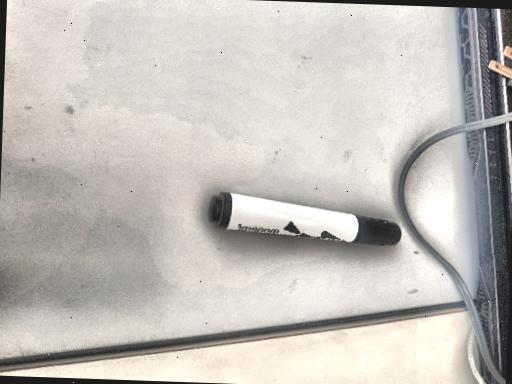marcador negro: (208, 191, 401, 245)
